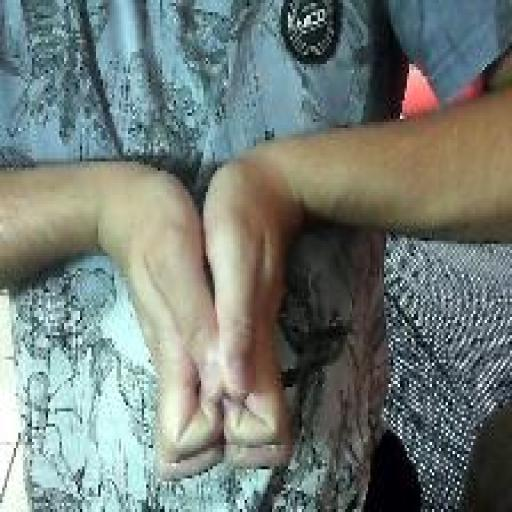I -boar-: (114, 145, 297, 483)
